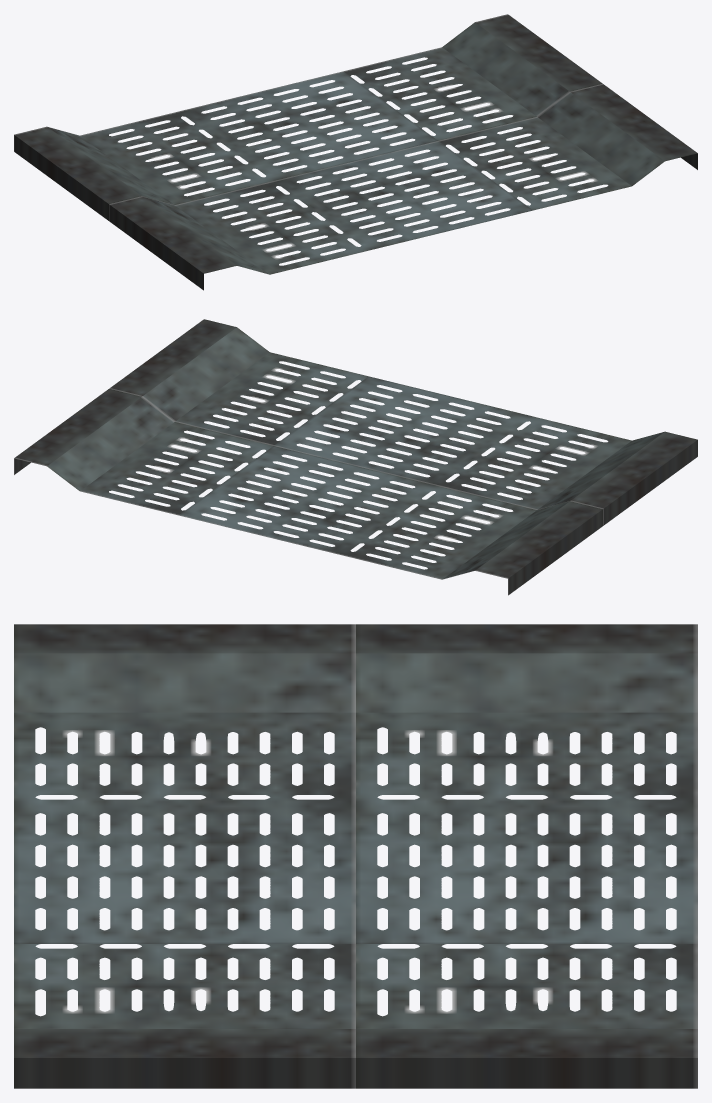
Rendered from MESH_GROUND_METAL_01.fbx.
3 renders of one model, top to bottom at view 1: azimuth 30°, elevation 25°; view 2: azimuth 150°, elevation 25°; view 3: azimuth 270°, elevation 25°, orthographic. The views are drawn at different scales.
Parts seen in each view (by area): view 1: MESH_GROUND_METAL_01; view 2: MESH_GROUND_METAL_01; view 3: MESH_GROUND_METAL_01.
Boxes of the visible parts, x1=… form: MESH_GROUND_METAL_01: x1=14, y1=14, x2=697, y2=290; MESH_GROUND_METAL_01: x1=14, y1=319, x2=697, y2=595; MESH_GROUND_METAL_01: x1=14, y1=624, x2=697, y2=1088.
Size of the model in its own units: 3 by 0.0987 by 2.
